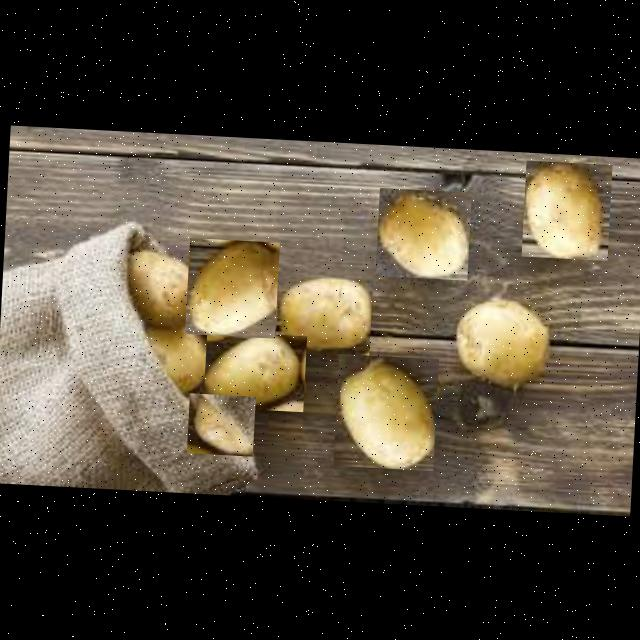Potato: (332, 353, 438, 470), (451, 296, 552, 392), (184, 237, 279, 338), (520, 160, 612, 260), (374, 187, 470, 280), (202, 330, 306, 411), (274, 274, 372, 354), (116, 246, 202, 323), (125, 318, 212, 389), (186, 392, 255, 456)
